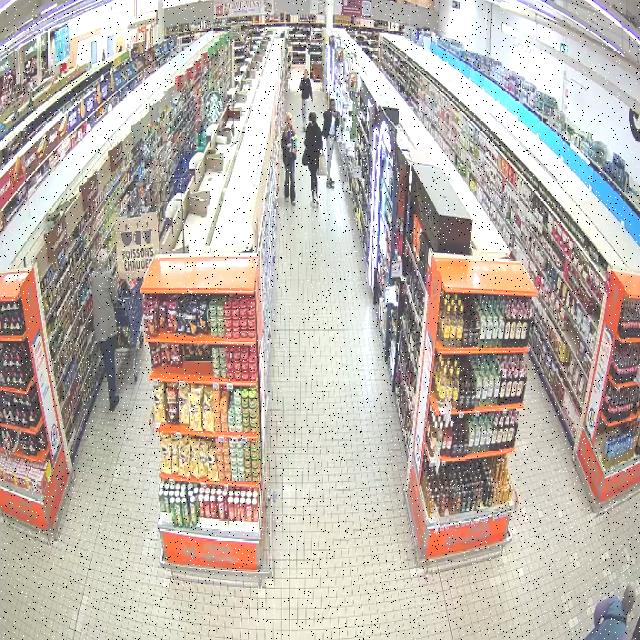article: (292, 136, 297, 149), (289, 137, 293, 143)
bags: (302, 148, 308, 166)
hands: (286, 143, 292, 149), (293, 149, 297, 155)
person: (302, 111, 322, 206), (322, 99, 339, 188), (281, 113, 296, 203)
